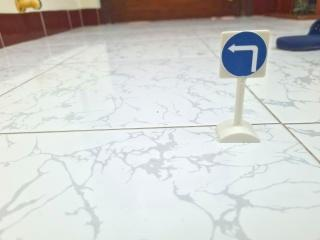left: (218, 28, 269, 80)
